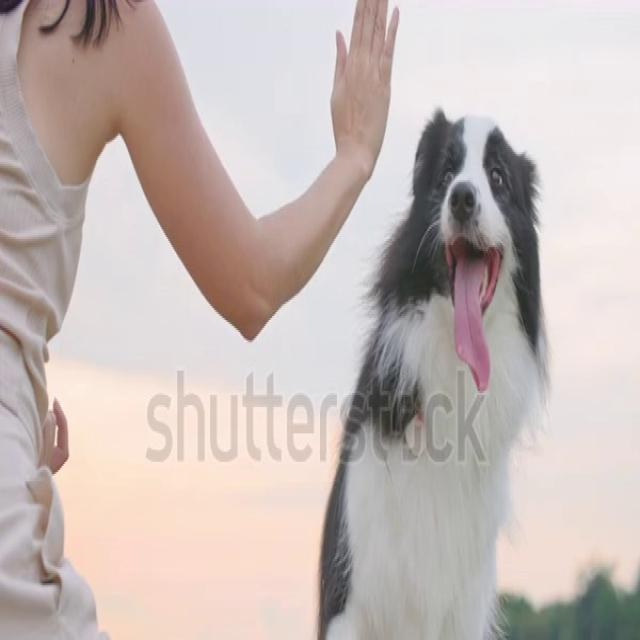normal_animals: (312, 101, 552, 638)
